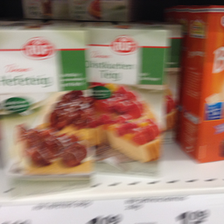cake: (1, 25, 92, 185), (84, 28, 169, 173)
